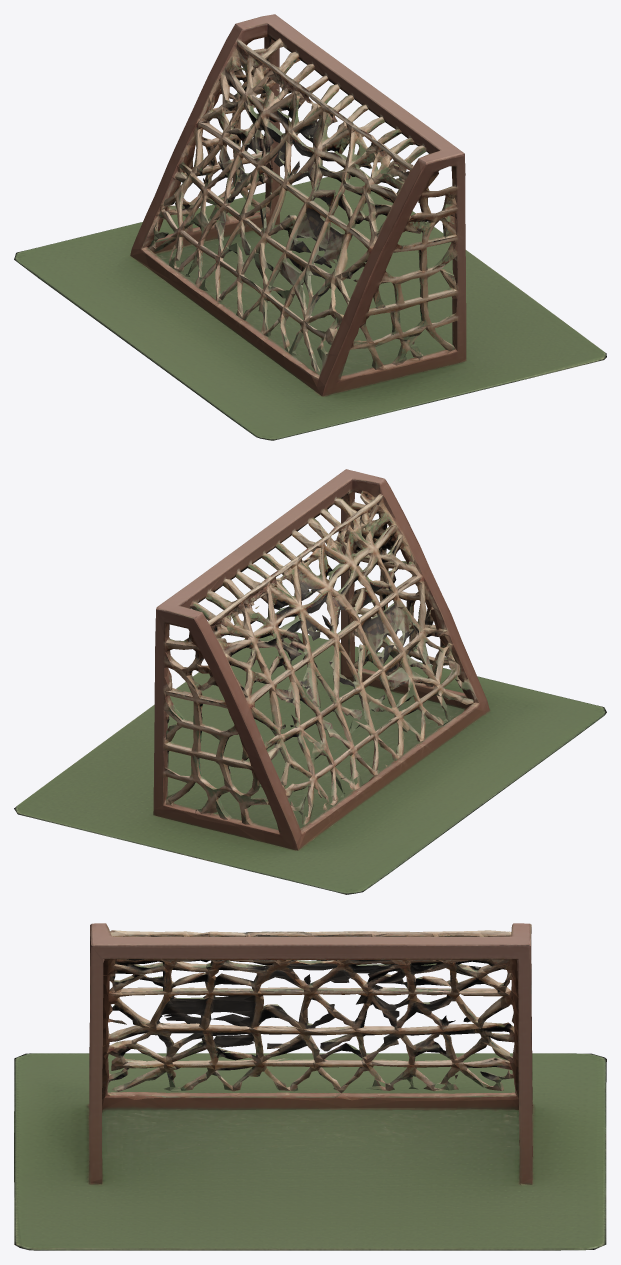
File: soccer_goal.glb
The picture shows the model from 3 angles, top to bottom: view 1: azimuth 30°, elevation 25°; view 2: azimuth 150°, elevation 25°; view 3: azimuth 270°, elevation 25°; orthographic projection. The views are drawn at different scales.
Parts seen in each view (by area): view 1: world; view 2: world; view 3: world.
Part boxes in pixels (box(x1,y1,x2,y2)): world: box(14, 14, 606, 440); world: box(14, 469, 606, 894); world: box(14, 923, 606, 1250).
Size of the model in its own units: 0.5719 by 0.3318 by 0.7301.
Materials: 1 (1 with a texture image).
